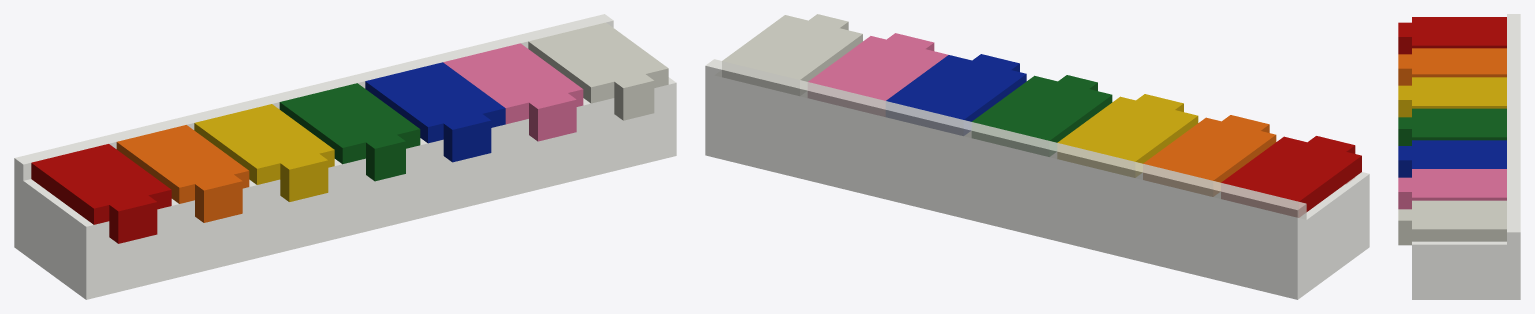
File: pillbox.glb
3 renders of one model, left to right at view 1: azimuth 30°, elevation 25°; view 2: azimuth 150°, elevation 25°; view 3: azimuth 270°, elevation 25°, orthographic. The views are drawn at different scales.
Visible parts, largest first — view 1: pillbox:compound; view 2: pillbox:compound; view 3: pillbox:compound.
Part boxes in pixels (box(x1,y1,x2,y2)): pillbox:compound: box(14, 14, 676, 299); pillbox:compound: box(705, 14, 1369, 299); pillbox:compound: box(1398, 14, 1520, 299).
Size of the model in its own units: 0.152 by 0.022 by 0.036.
